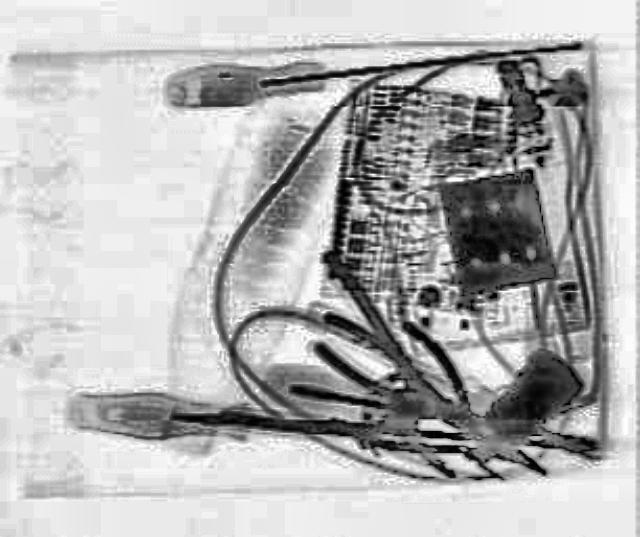Pliers: (306, 293, 580, 499), (276, 380, 598, 468)
